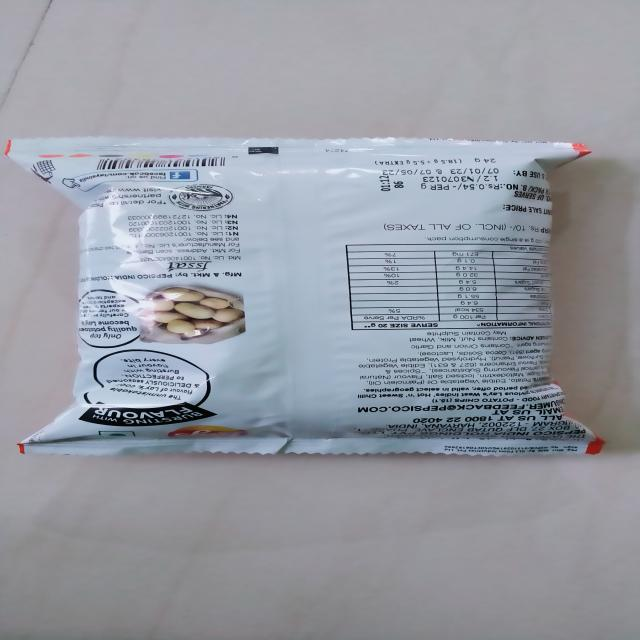lays: (0, 136, 612, 473)
